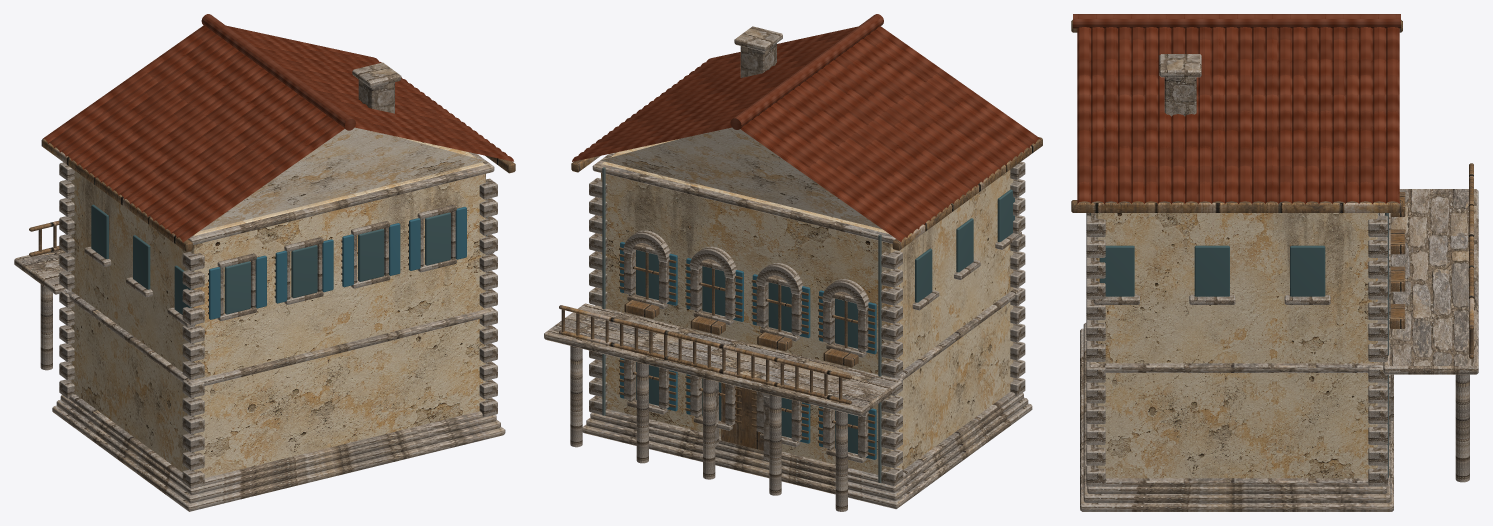
Rendered from building_house_b.glb.
3 renders of one model, left to right at view 1: azimuth 30°, elevation 25°; view 2: azimuth 150°, elevation 25°; view 3: azimuth 270°, elevation 25°, orthographic. The views are drawn at different scales.
Visible parts, largest first — view 1: stucco_volume, individual_barrel_roof_tiles, stepped_stone_plinth, window_recess, shutter, carved_double_door; view 2: stepped_stone_plinth, stucco_volume, individual_barrel_roof_tiles, carved_double_door, window_recess, shutter, shutter_louvre, rainwater_downpipe, mullion; view 3: stucco_volume, individual_barrel_roof_tiles, stepped_stone_plinth, carved_double_door, window_recess.
Part boxes in pixels (<box>): stucco_volume: <box>71,127,486,477</box>; individual_barrel_roof_tiles: <box>43,14,513,242</box>; stepped_stone_plinth: <box>14,62,505,511</box>; window_recess: <box>91,204,487,314</box>; shutter: <box>209,207,466,319</box>; carved_double_door: <box>29,138,515,256</box>; stepped_stone_plinth: <box>544,26,1032,511</box>; stucco_volume: <box>600,127,1013,474</box>; individual_barrel_roof_tiles: <box>572,14,1040,242</box>; carved_double_door: <box>559,137,1042,450</box>; window_recess: <box>636,189,1014,454</box>; shutter: <box>620,242,876,459</box>; shutter_louvre: <box>619,247,875,456</box>; rainwater_downpipe: <box>602,167,881,482</box>; mullion: <box>633,252,857,429</box>; stucco_volume: <box>1096,213,1377,478</box>; individual_barrel_roof_tiles: <box>1073,14,1400,204</box>; stepped_stone_plinth: <box>1080,54,1478,511</box>; carved_double_door: <box>1071,20,1473,358</box>; window_recess: <box>1090,213,1379,296</box>.
Size of the model in its own units: 12.42 by 12.81 by 11.55.
Materials: 9 (5 with a texture image).
